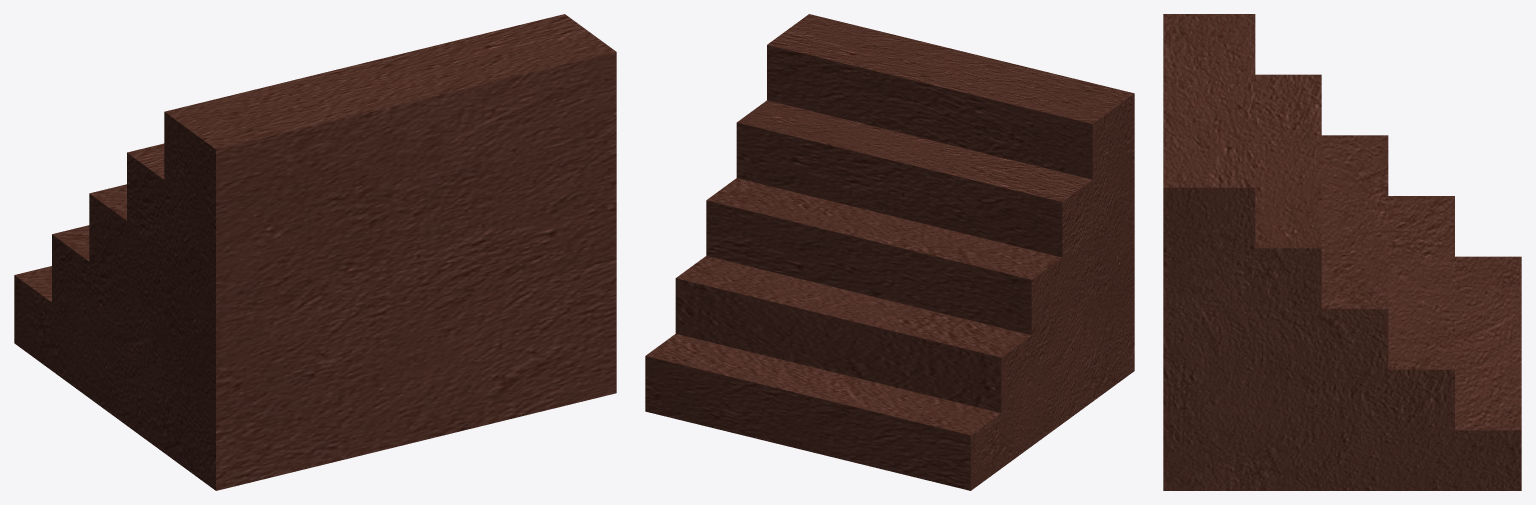
File: Stairs.fbx
The picture shows the model from 3 angles, left to right: view 1: azimuth 30°, elevation 25°; view 2: azimuth 150°, elevation 25°; view 3: azimuth 270°, elevation 25°; orthographic projection. The views are drawn at different scales.
Parts seen in each view (by area): view 1: Cube.072; view 2: Cube.072; view 3: Cube.072.
Boxes of the visible parts, x1,y1,x2,y2 form: Cube.072: (14, 14, 616, 490); Cube.072: (645, 14, 1134, 490); Cube.072: (1163, 14, 1521, 490).
Size of the model in its own units: 123 by 100 by 108.
